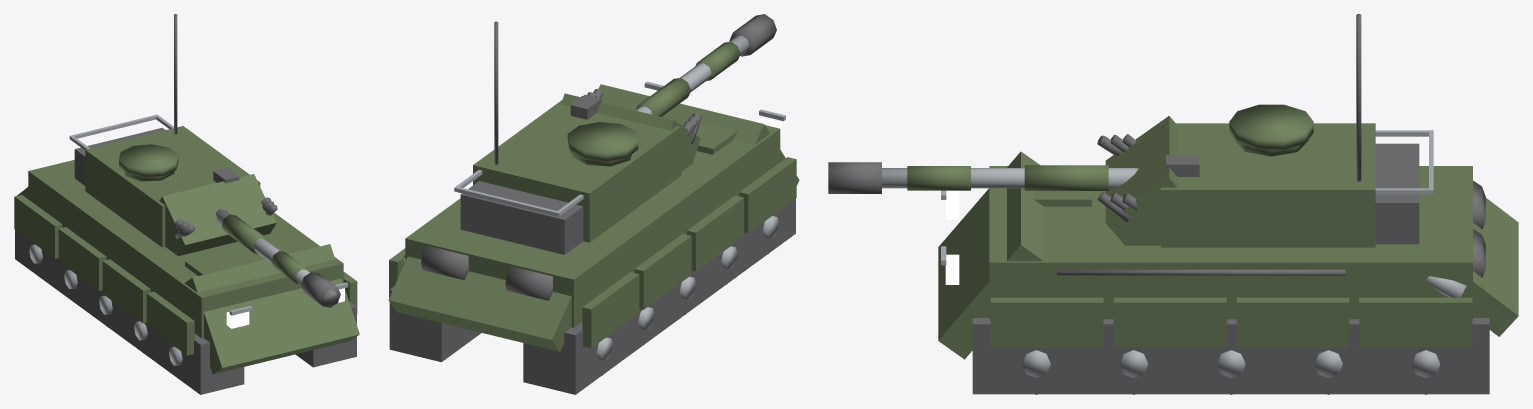
File: afv.glb
3 views of the same model, side by side, from view 1: azimuth 30°, elevation 25°; view 2: azimuth 150°, elevation 25°; view 3: azimuth 270°, elevation 25° (orthographic). The views are drawn at different scales.
Parts seen in each view (by area): view 1: Merged_CityArmyGreen, Merged_RoofDark, Merged_PropsMetal, Merged_LampGlow; view 2: Merged_CityArmyGreen, Merged_RoofDark, Merged_PropsMetal; view 3: Merged_CityArmyGreen, Merged_RoofDark, Merged_PropsMetal, Merged_LampGlow.
Boxes of the visible parts, x1=… form: Merged_CityArmyGreen: x1=14, y1=126, x2=359, y2=378; Merged_RoofDark: x1=15, y1=14, x2=356, y2=394; Merged_PropsMetal: x1=29, y1=114, x2=348, y2=365; Merged_LampGlow: x1=226, y1=288, x2=344, y2=328; Merged_CityArmyGreen: x1=388, y1=41, x2=799, y2=375; Merged_RoofDark: x1=389, y1=14, x2=795, y2=394; Merged_PropsMetal: x1=403, y1=35, x2=785, y2=360; Merged_CityArmyGreen: x1=907, y1=104, x2=1518, y2=394; Merged_RoofDark: x1=828, y1=14, x2=1489, y2=394; Merged_PropsMetal: x1=882, y1=130, x2=1466, y2=377; Merged_LampGlow: x1=945, y1=190, x2=959, y2=284.
Bounding box in the file's own units: 4.08 × 5.77 × 10.28.
